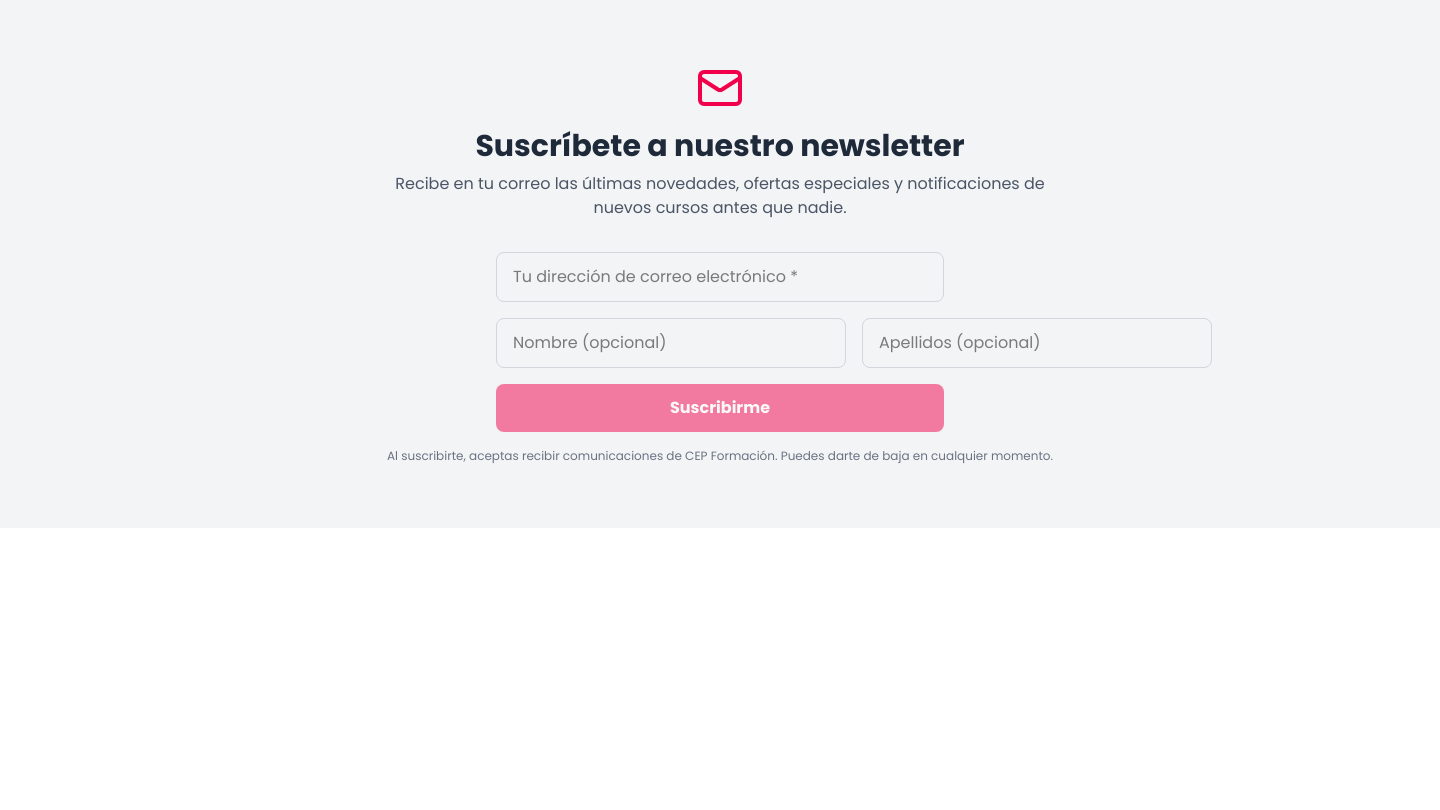
NewsletterSection › handles subscription error
In the field with test id "email-input": (720, 277) [496,252,944,302], type "existing@example.com"
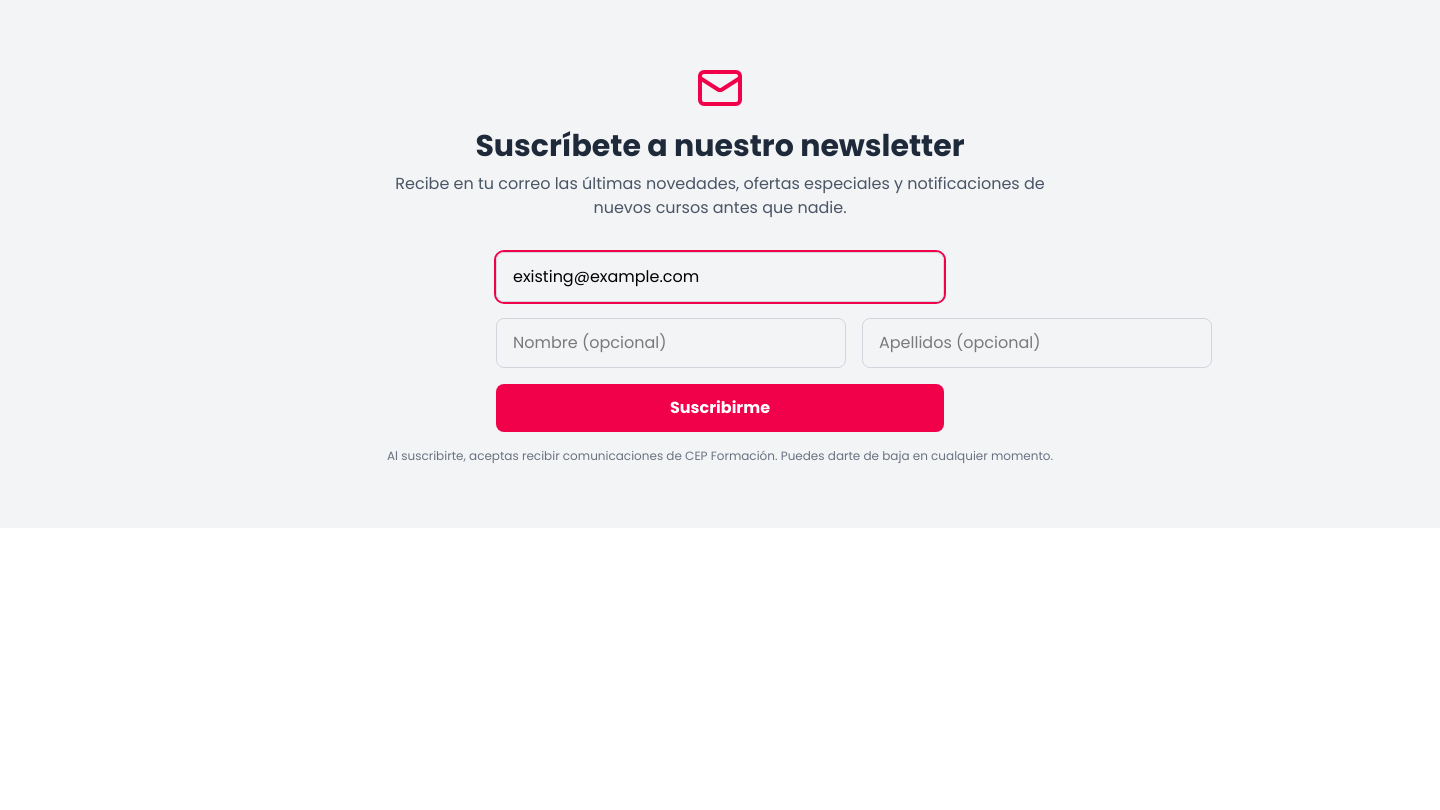
Click the button with test id "submit-button": (720, 408) [496,384,944,432]
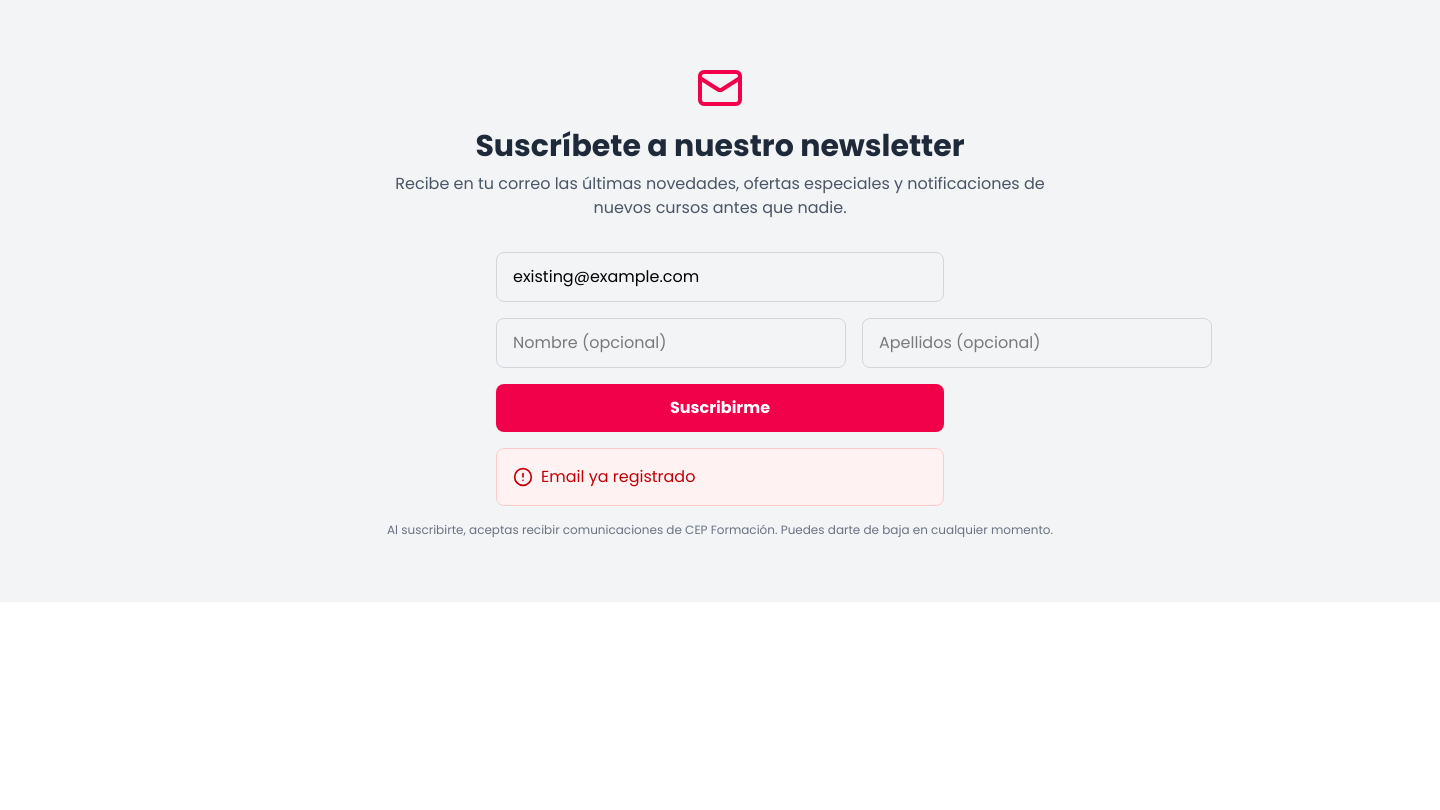
expect the text "Email ya registrado" is shown: met, box [541,465,695,489]
